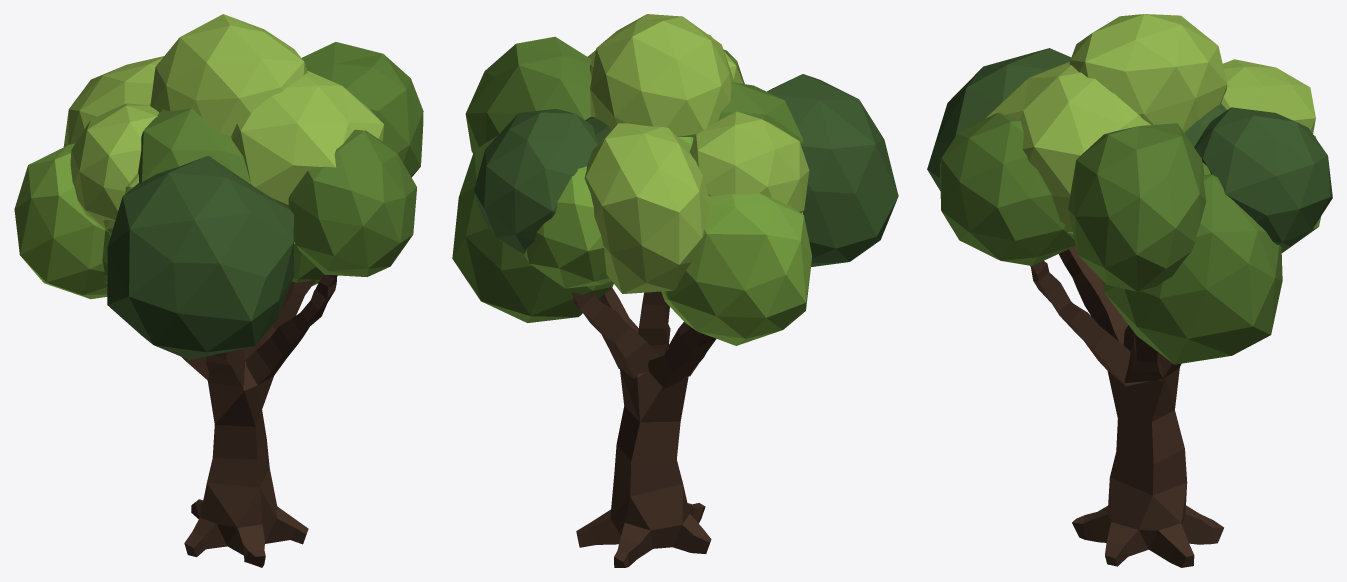
File: SM_Tree_Oak_Green_05.glb
The picture shows the model from 3 angles, left to right: view 1: azimuth 30°, elevation 25°; view 2: azimuth 150°, elevation 25°; view 3: azimuth 270°, elevation 25°; orthographic projection.
Parts seen in each view (by area): view 1: SM_Tree_Oak_Green_05; view 2: SM_Tree_Oak_Green_05; view 3: SM_Tree_Oak_Green_05.
Part boxes in pixels (x1,y1,x2,y2): SM_Tree_Oak_Green_05: (14, 14, 423, 567); SM_Tree_Oak_Green_05: (452, 14, 898, 567); SM_Tree_Oak_Green_05: (927, 14, 1332, 567).
Bounding box in the file's own units: 3.58 × 4.86 × 3.41.
